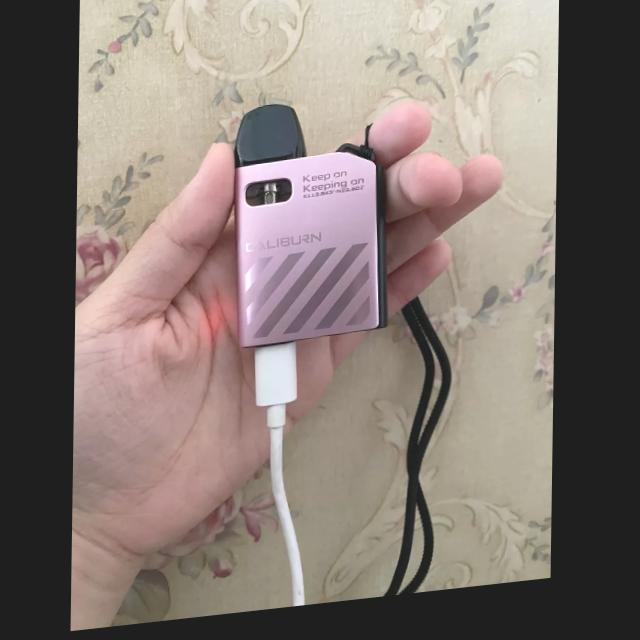vape: (233, 102, 393, 358)
